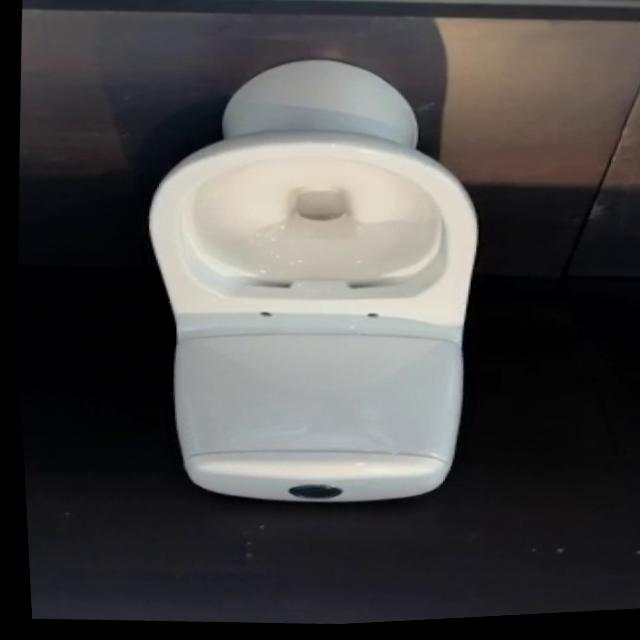toilet: (118, 45, 500, 525)
